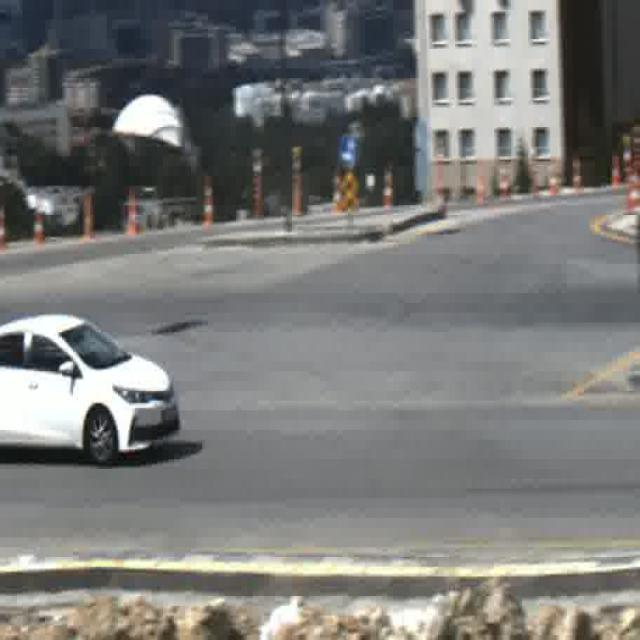Car: (0, 312, 182, 464)
